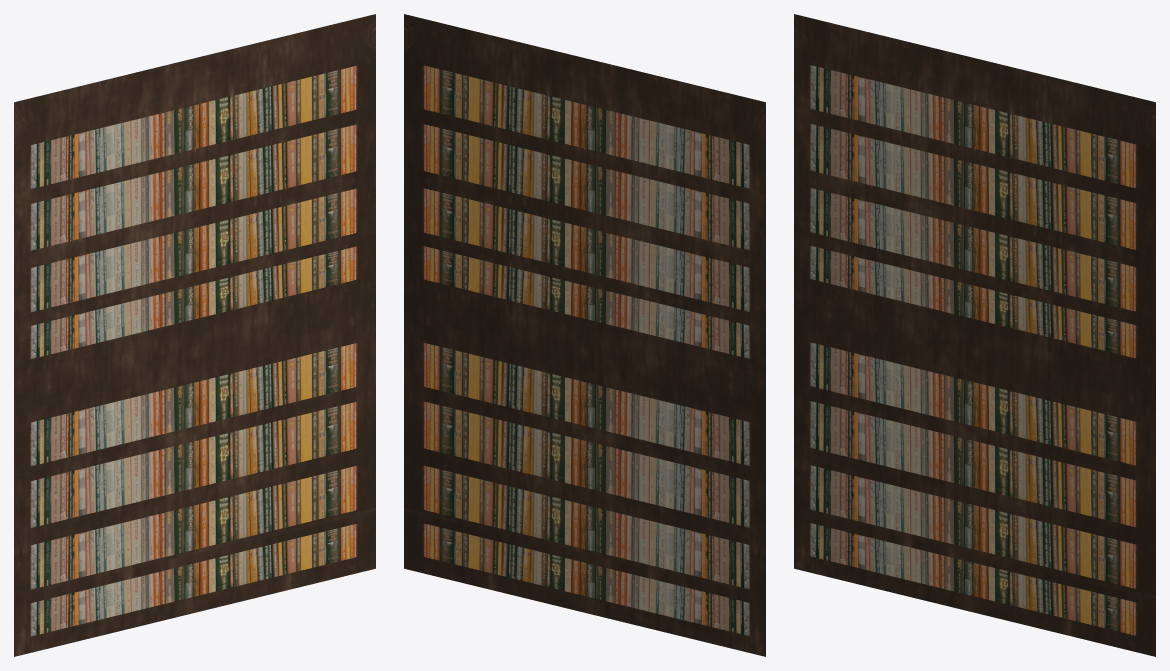
The model's file is bookshelf_face.fbx.
3 views of the same model, side by side, from view 1: azimuth 30°, elevation 25°; view 2: azimuth 150°, elevation 25°; view 3: azimuth 330°, elevation 25° (orthographic).
Parts seen in each view (by area): view 1: bookshelf7; view 2: bookshelf7; view 3: bookshelf7.
Boxes of the visible parts, x1,y1,x2,y2 form: bookshelf7: (14,14,375,656); bookshelf7: (404,14,765,656); bookshelf7: (794,14,1155,656).
Size of the model in its own units: 403 by 590 by 0.4192.
